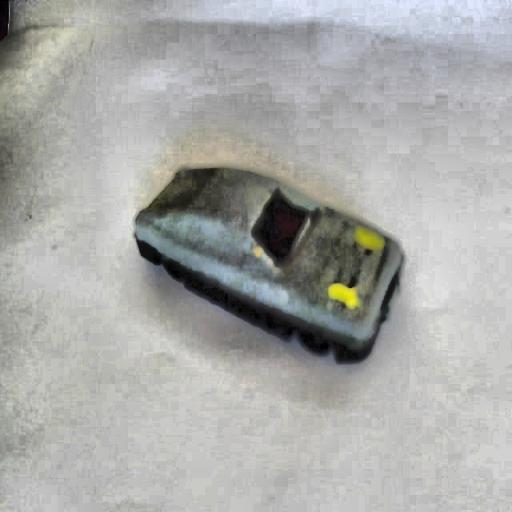normal_car: (126, 157, 408, 368)
